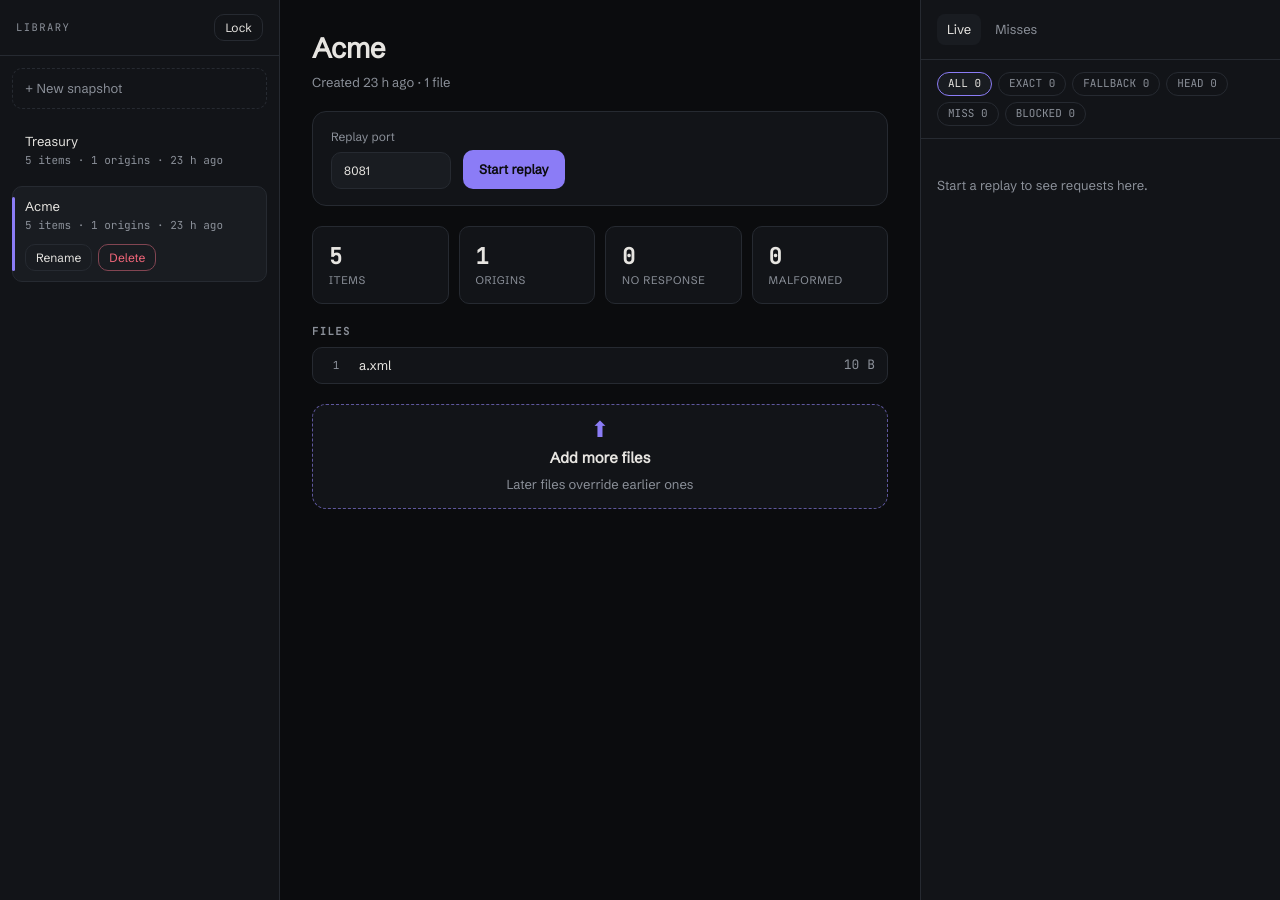
the newest snapshot opens first, and selecting another switches the stage
The image size is (1280, 900).
Expected: the heading "Acme" is shown, [312,31,385,65]
Step 1. Click the button "Treasury 5 items · 1 origins · 23 h ago" → [140, 151], box [13,122,266,179]
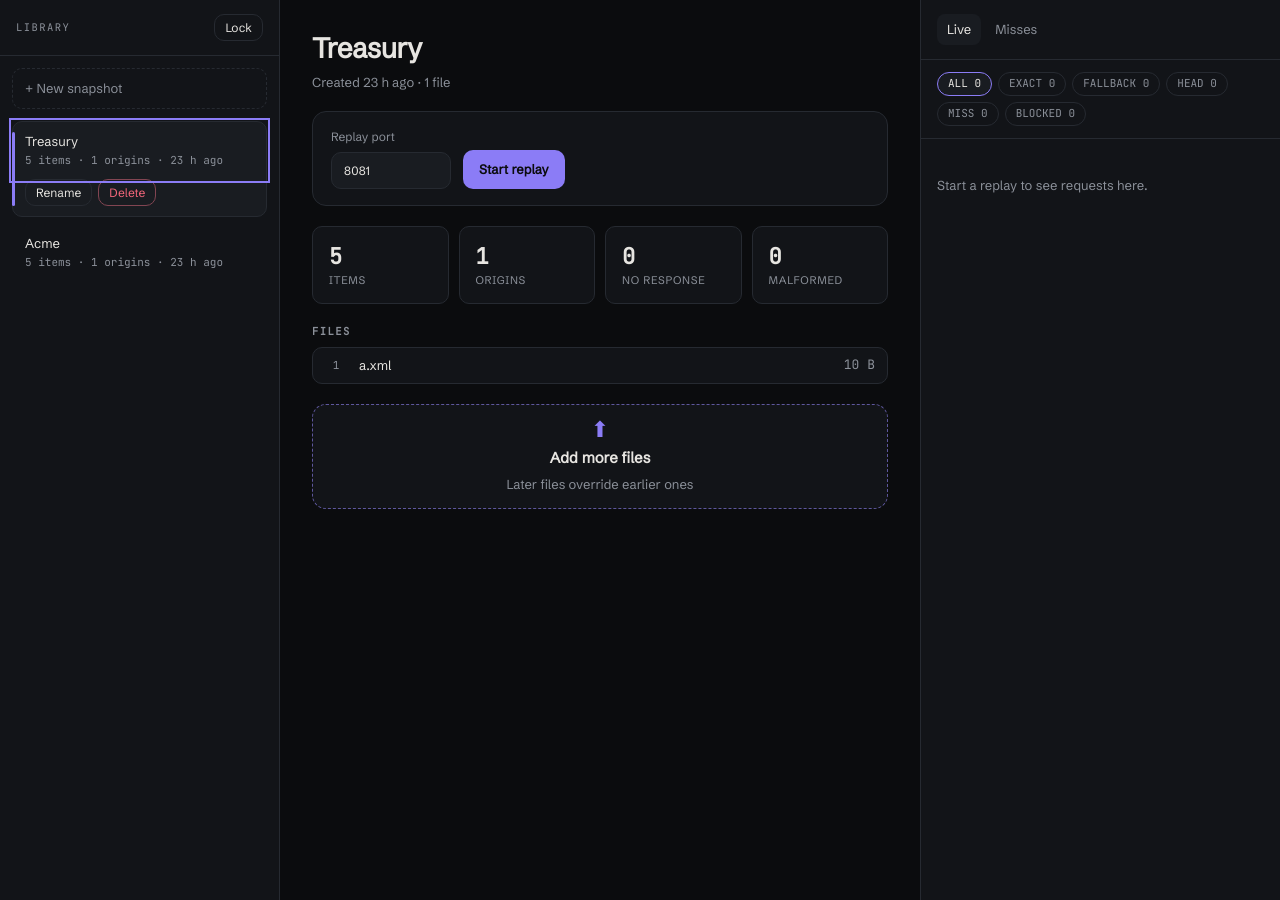
Expected: the heading "Treasury" is shown, [312,31,422,65]
